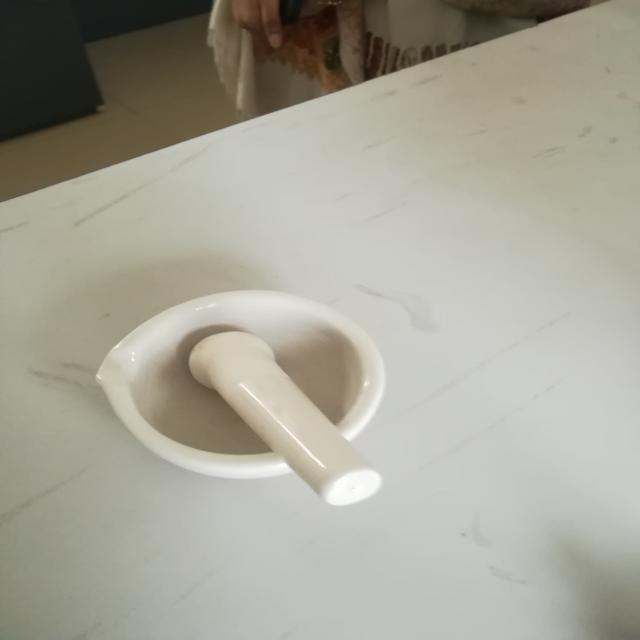Porcelain_Mortar Pestle: (37, 249, 430, 523)
